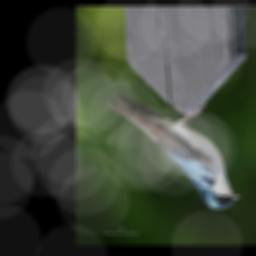Swallow: (106, 93, 241, 210)
